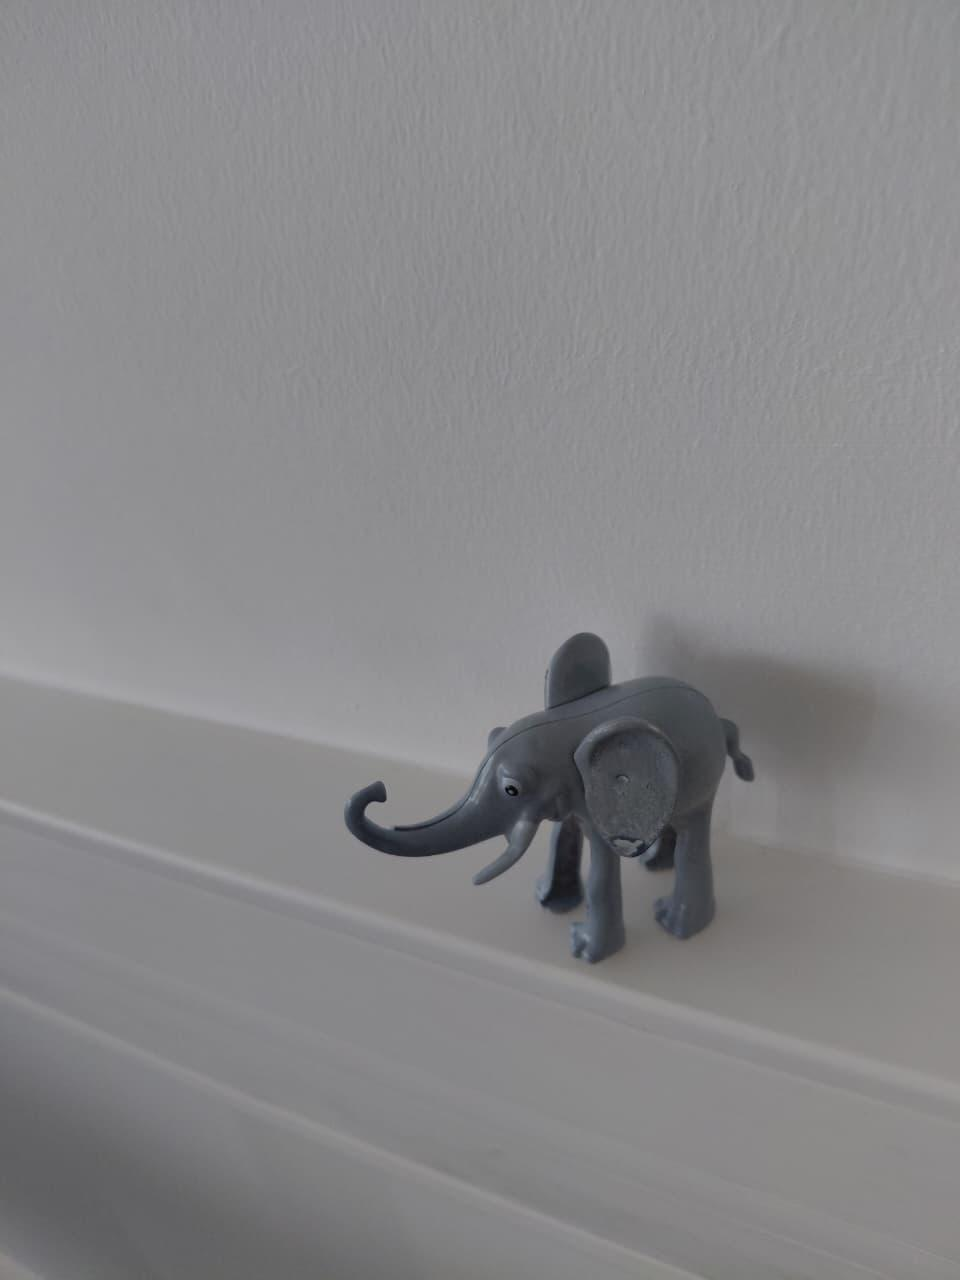elephant: (275, 570, 850, 1058)
